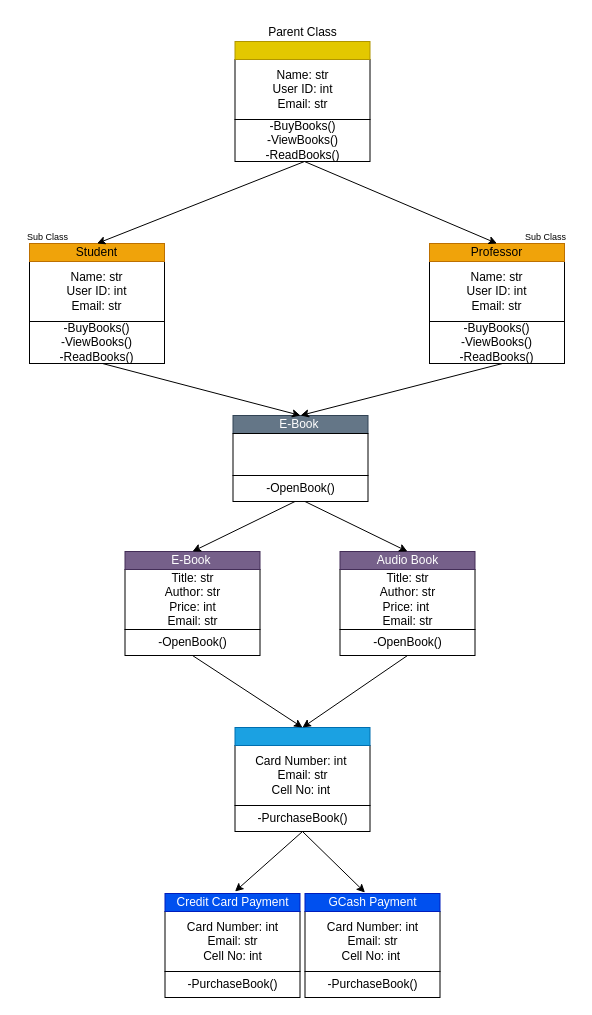
Some shapes in this 592 by 1015 pixel diagram are drawn without their labels. Here are the shapes that lost their labels. From the top down, the centre of each, then its label:
the point at 302,50: E-Book User
the point at 300,454: Email: str Name: str
the point at 302,736: Payment
